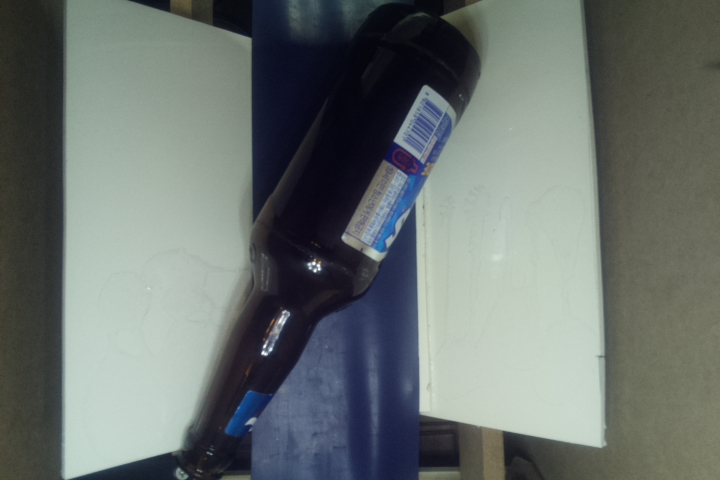makju: (175, 4, 485, 480)
